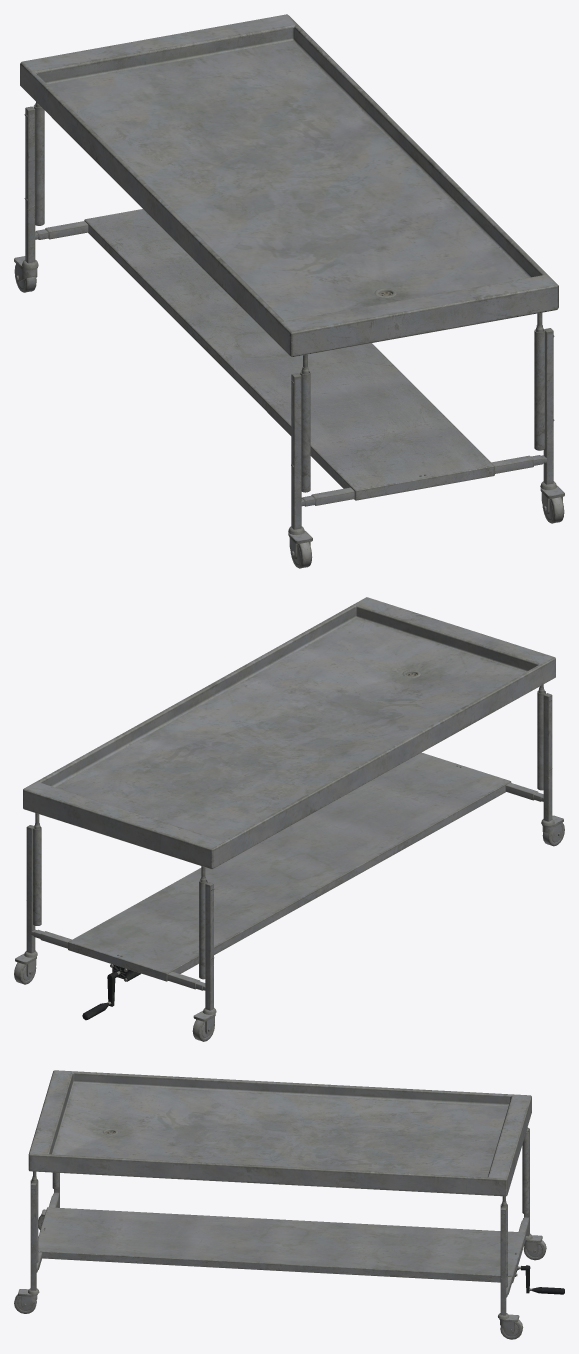
Rendered from AutopsyTable.fbx.
3 renders of one model, top to bottom at view 1: azimuth 30°, elevation 25°; view 2: azimuth 150°, elevation 25°; view 3: azimuth 270°, elevation 25°, orthographic. The views are drawn at different scales.
Parts seen in each view (by area): view 1: Object_32.001, Object_38.001, Object_40.001, Object_42.001; view 2: Object_32.001, Object_38.001, Object_40.001, Object_42.001; view 3: Object_32.001, Object_38.001, Object_42.001, Object_40.001, Object_44.001.
Part boxes in pixels (x1,y1,x2,y2): Object_32.001: (20, 14, 558, 500); Object_38.001: (22, 102, 556, 535); Object_40.001: (14, 265, 564, 568); Object_42.001: (14, 256, 564, 558); Object_32.001: (23, 597, 555, 981); Object_38.001: (24, 684, 554, 1014); Object_40.001: (14, 822, 564, 1041); Object_42.001: (15, 815, 563, 1034); Object_32.001: (28, 1070, 531, 1283); Object_38.001: (28, 1127, 532, 1319); Object_42.001: (18, 1209, 542, 1334); Object_40.001: (14, 1215, 546, 1339); Object_44.001: (517, 1265, 564, 1294).
Size of the model in its own units: 117 by 79.28 by 245.
